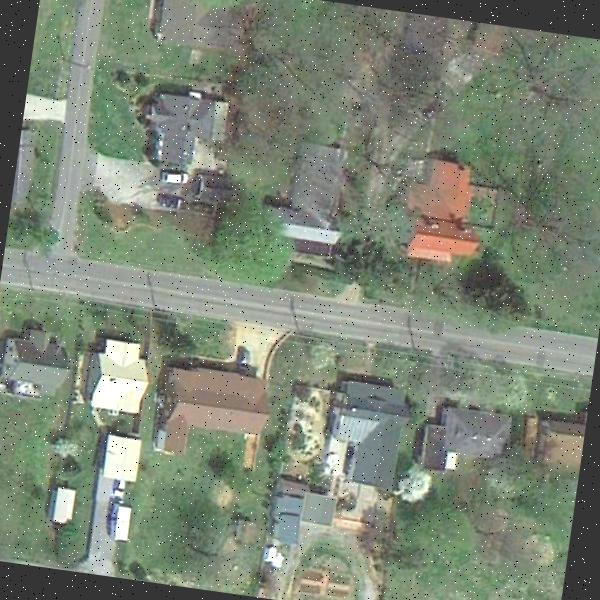Buildings: (153, 366, 278, 470), (325, 374, 416, 494), (137, 87, 226, 171), (409, 163, 484, 249), (423, 406, 513, 476), (517, 404, 587, 478), (282, 152, 344, 230), (84, 346, 152, 413), (0, 338, 64, 406), (145, 0, 227, 45)
